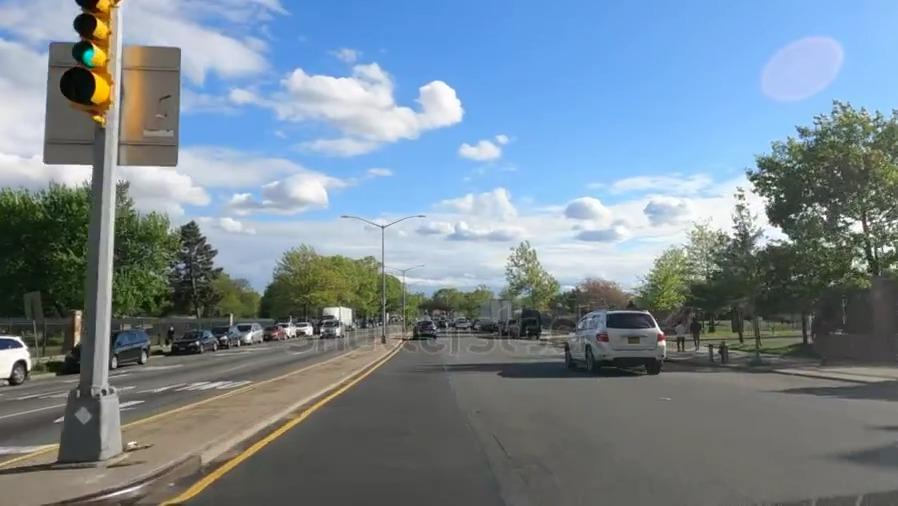car: (569, 311, 671, 367), (0, 327, 45, 391), (67, 335, 156, 363), (180, 328, 212, 352), (213, 327, 239, 347), (318, 319, 343, 339), (238, 323, 260, 341), (275, 323, 295, 336), (263, 327, 283, 339), (297, 323, 311, 335)
person: (690, 314, 703, 349), (673, 315, 685, 351), (163, 323, 176, 342)
traffic light: (67, 0, 118, 122)
truck: (325, 305, 351, 327)
